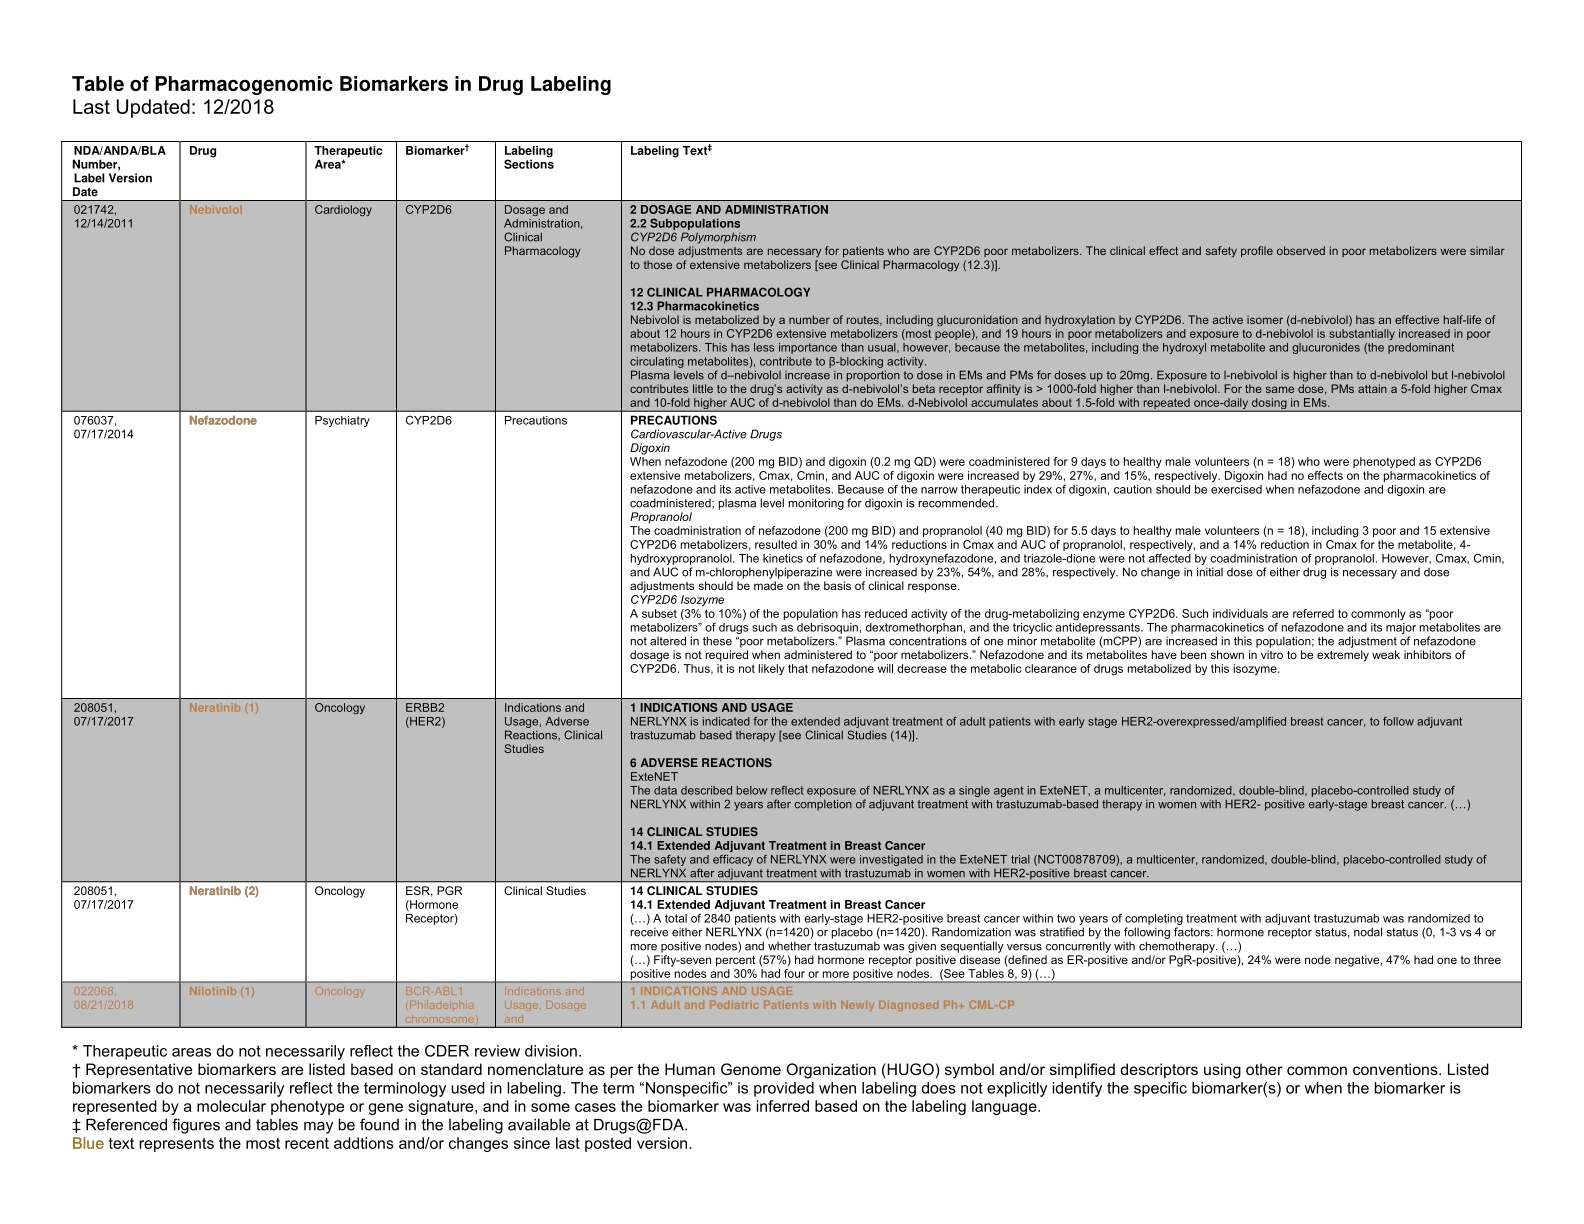full_lined: (60, 141, 1522, 1029)
